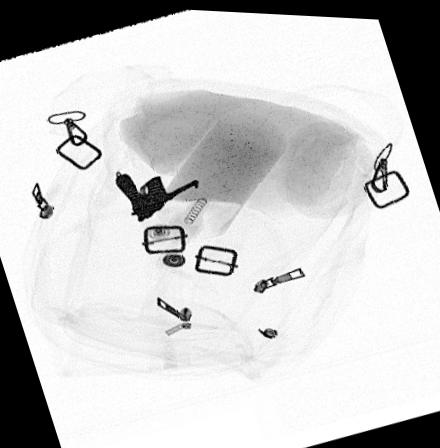Gun: (113, 170, 199, 221)
